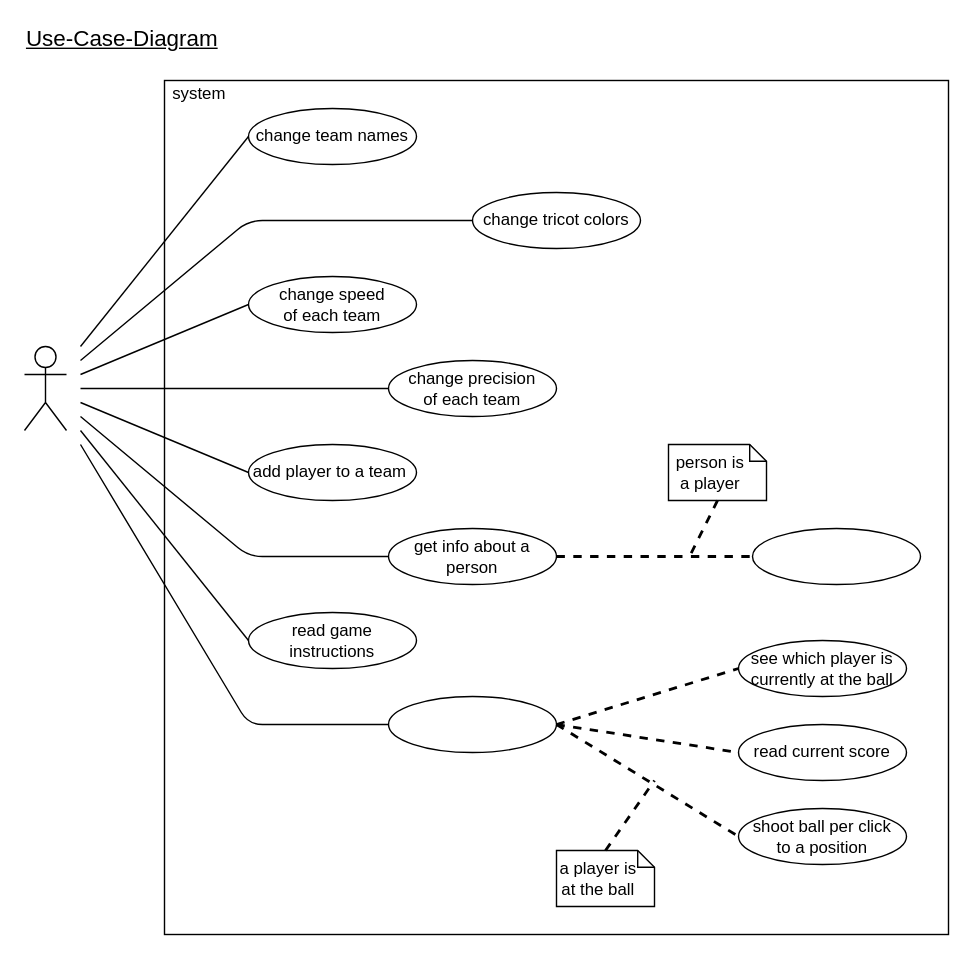
Some shapes in this 973 by 959 pixel diagram are drawn without their labels. The shapes that lost their labels are listed below. From the top down, each one's box as (x1, y1, x2, y2) in pixels, then its label:
(23, 345, 66, 430): user
(751, 527, 920, 584): delete this player out of the team
(387, 695, 556, 752): start game
